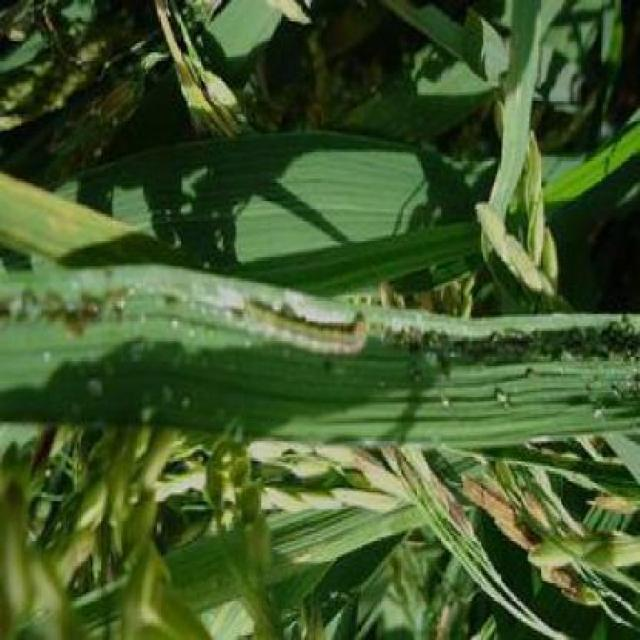leaf-folder: (225, 281, 381, 379)
